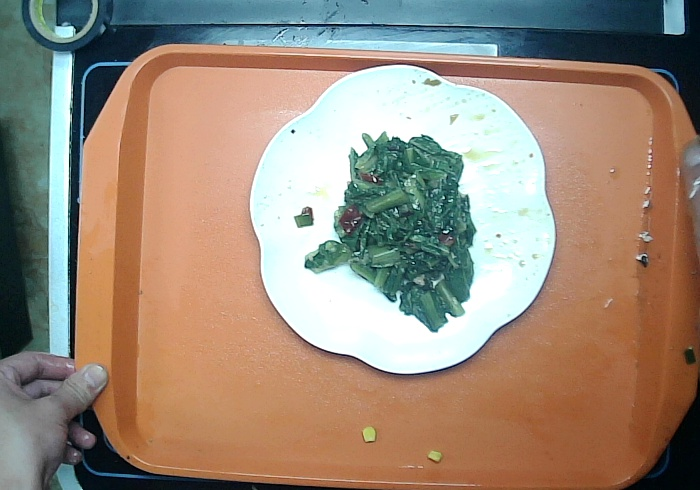HZYJPL-Bai_Se_Hua_Duo_Wan: (247, 58, 560, 377)
